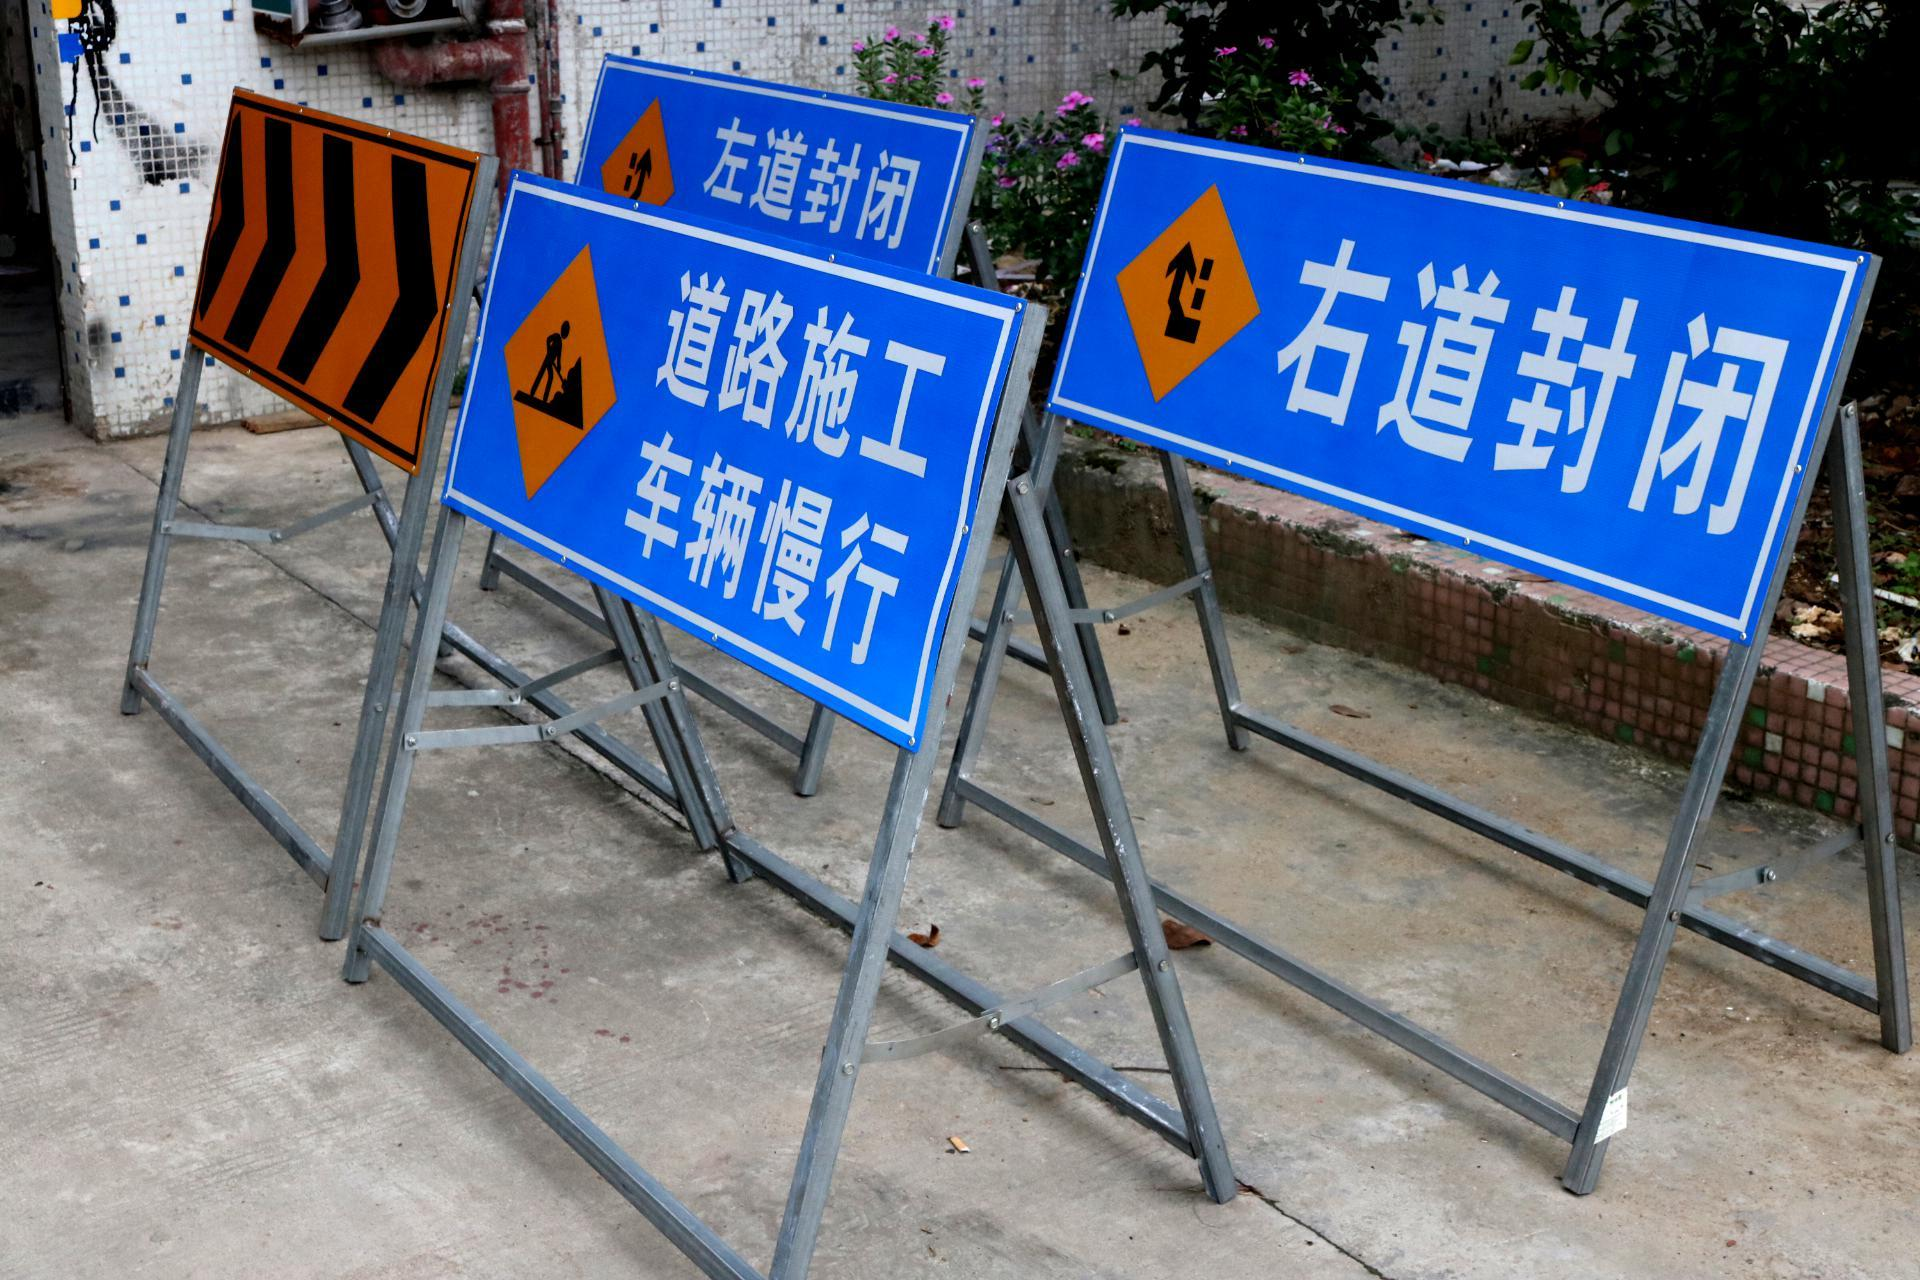sign: (436, 226, 980, 697), (1086, 194, 1811, 541), (180, 77, 454, 474), (586, 69, 970, 251)
